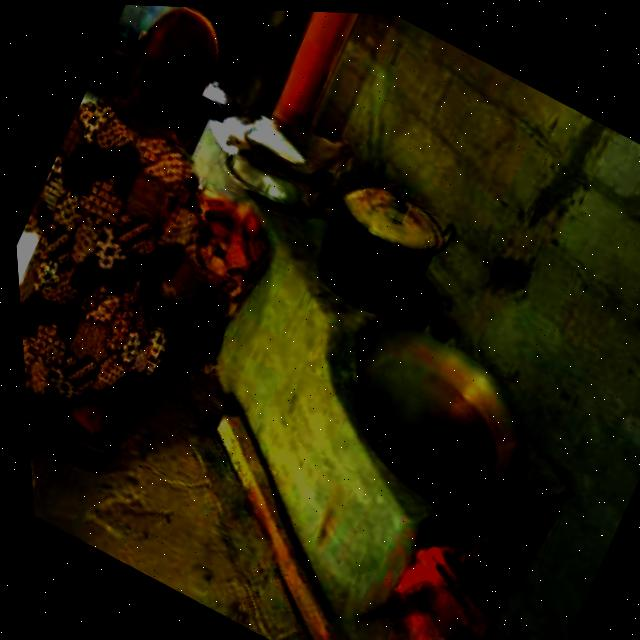Fire: (384, 520, 450, 600)
